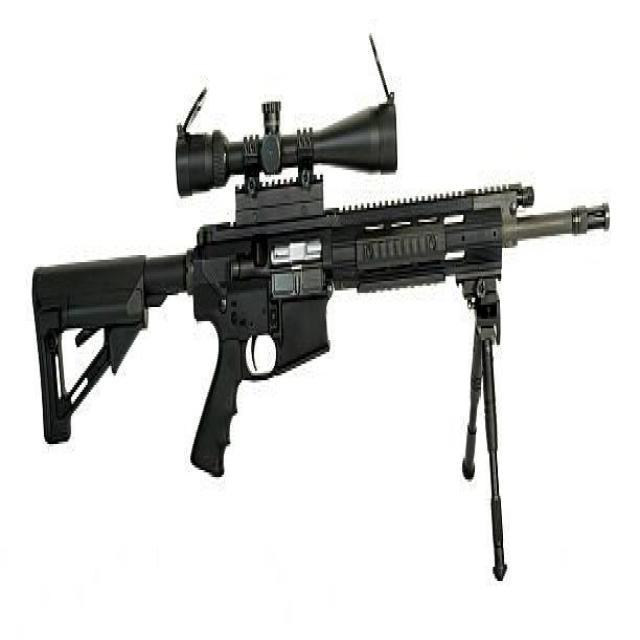weapon: (31, 30, 612, 582)
